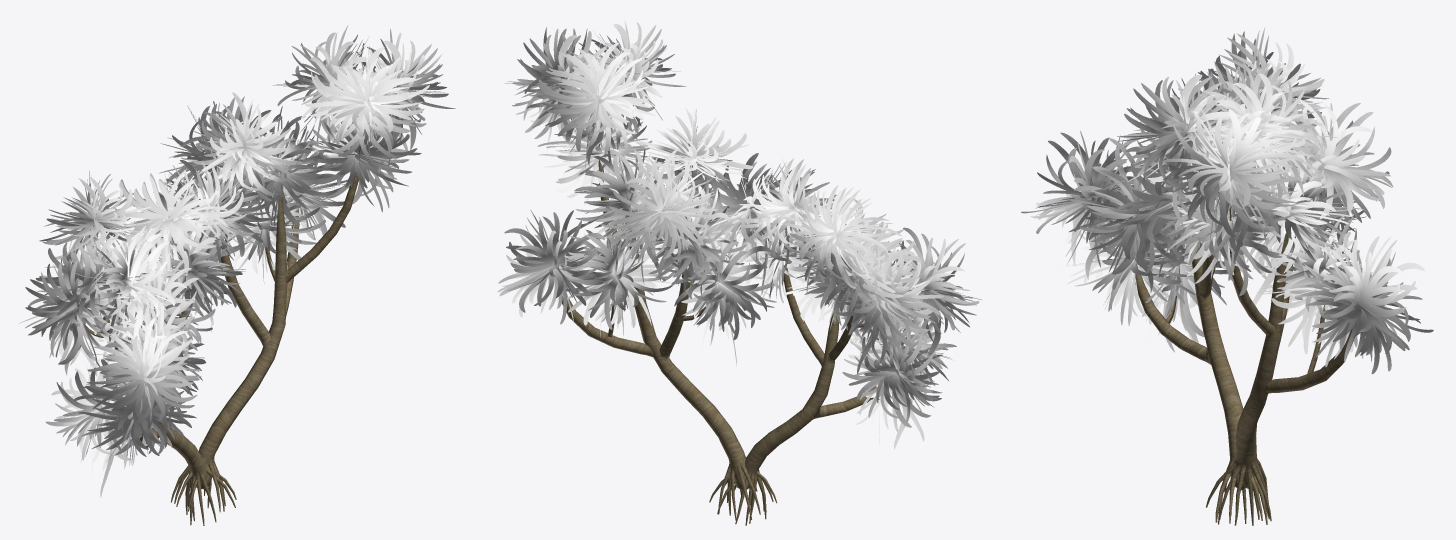
Rendered from Pandanace1.fbx.
3 renders of one model, left to right at view 1: azimuth 30°, elevation 25°; view 2: azimuth 150°, elevation 25°; view 3: azimuth 270°, elevation 25°, orthographic. The views are drawn at different scales.
Parts seen in each view (by area): view 1: Pandanace1_LOD0; view 2: Pandanace1_LOD0; view 3: Pandanace1_LOD0.
Boxes of the visible parts, box(x1,y1,x2,y2) form: Pandanace1_LOD0: box(19, 25, 455, 525); Pandanace1_LOD0: box(497, 21, 981, 525); Pandanace1_LOD0: box(1021, 27, 1433, 525).
Size of what is drawn, in the model's own units: 981 by 1001 by 703.
